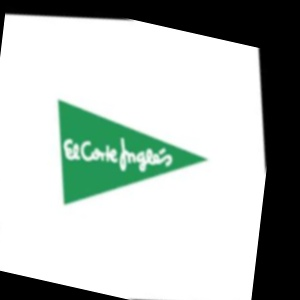corte_ingles: (189, 70, 258, 154)
